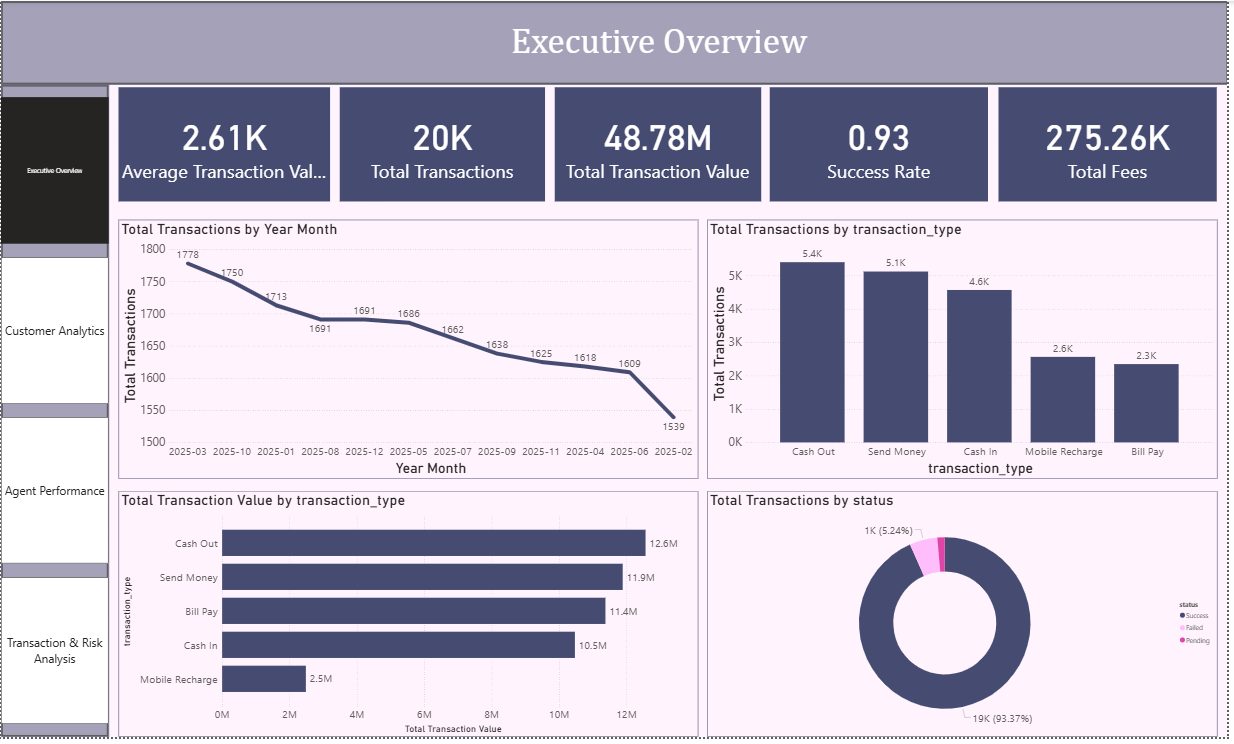

This screenshot's page, from the dashboard's own definition file:
{"tool":"powerbi","page":{"name":"Executive Overview","canvas":[2500,1500],"ordinal":0},"visuals":[{"type":"actionButton","box":[0,0,2501.7,170.7],"z":0},{"type":"actionButton","box":[0,171.5,219.8,1329.3],"z":1000},{"type":"textbox","box":[670,37.5,1342.7,107.2],"z":2000},{"type":"card","fields":{"Values":["Measure.Average Transaction Value"]},"box":[238.5,176.9,431.5,233.2],"z":2001},{"type":"card","fields":{"Values":["Measure.Total Transaction Value"]},"box":[1128.3,176.9,420.8,233.2],"z":2003},{"type":"card","fields":{"Values":["Measure.Total Transactions"]},"box":[691.5,176.9,418.1,233.2],"z":2004},{"type":"card","fields":{"Values":["Measure.Success Rate"]},"box":[1567.9,176.9,444.9,233.2],"z":2005},{"type":"card","fields":{"Values":["Measure.Total Fees"]},"box":[2034.2,176.9,444.9,233.2],"z":2006},{"type":"lineChart","fields":{"Category":["DateTable.Year Month"],"Y":["Measure.Total Transactions"]},"box":[238.5,444.9,1181.9,528],"z":2007},{"type":"clusteredColumnChart","fields":{"Y":["Measure.Total Transactions"],"Category":["public transaction_types.transaction_type"]},"box":[1439.2,444.9,1039.9,528],"z":2008},{"type":"barChart","fields":{"Category":["public transaction_types.transaction_type"],"Y":["Measure.Total Transaction Value"]},"box":[238.5,999.7,1181.9,501.2],"z":2009},{"type":"donutChart","fields":{"Y":["Measure.Total Transactions"],"Category":["public transactions.status"]},"box":[1439.2,999.7,1039.9,501.2],"z":2010},{"type":"pageNavigator","box":[0,196.2,219.1,1278.9],"z":2011}]}

Visuals, with their boxes on the page's 2500x1500 design canvas (x1, y1, x2, y2). These are canvas units, not pixel positions in the 1234x744 screenshot, which may show the page scaled, cropped or inside an application window:
actionButton: 0 0 2502 171
actionButton: 0 172 220 1501
textbox: 670 38 2013 145
card - Measure.Average Transaction Value: 238 177 670 410
card - Measure.Total Transaction Value: 1128 177 1549 410
card - Measure.Total Transactions: 692 177 1110 410
card - Measure.Success Rate: 1568 177 2013 410
card - Measure.Total Fees: 2034 177 2479 410
lineChart - DateTable.Year Month x Measure.Total Transactions: 238 445 1420 973
clusteredColumnChart - Measure.Total Transactions x public transaction_types.transaction_type: 1439 445 2479 973
barChart - public transaction_types.transaction_type x Measure.Total Transaction Value: 238 1000 1420 1501
donutChart - Measure.Total Transactions x public transactions.status: 1439 1000 2479 1501
pageNavigator: 0 196 219 1475
